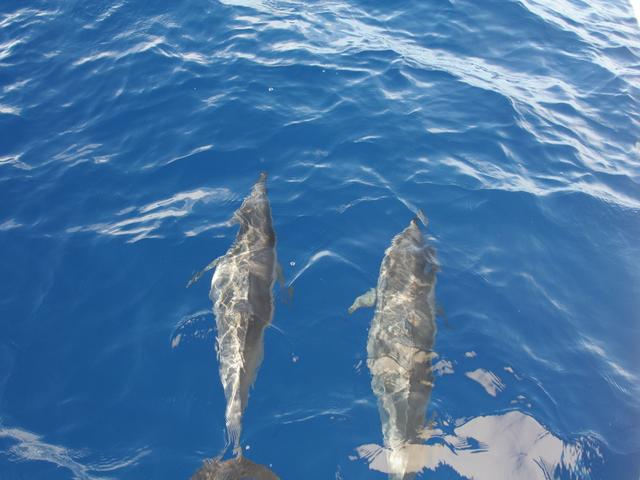dolphin: (193, 156, 290, 448), (364, 191, 465, 469)
